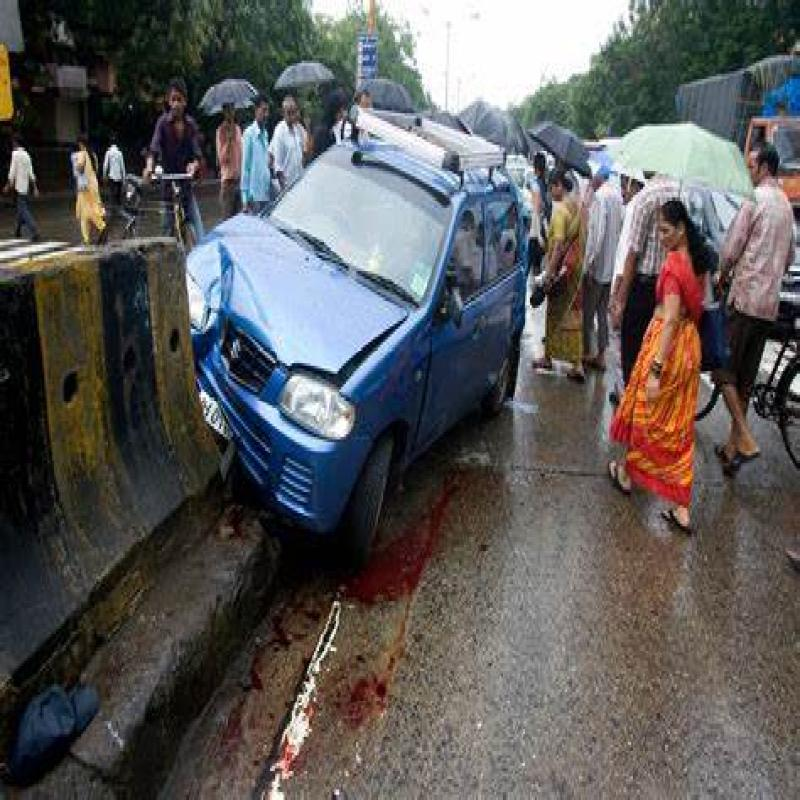car: (201, 119, 549, 524)
